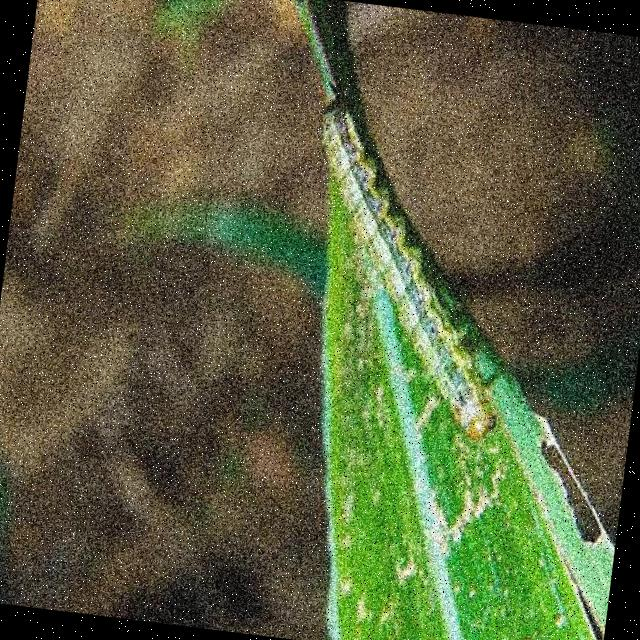worm: (280, 99, 541, 449)
